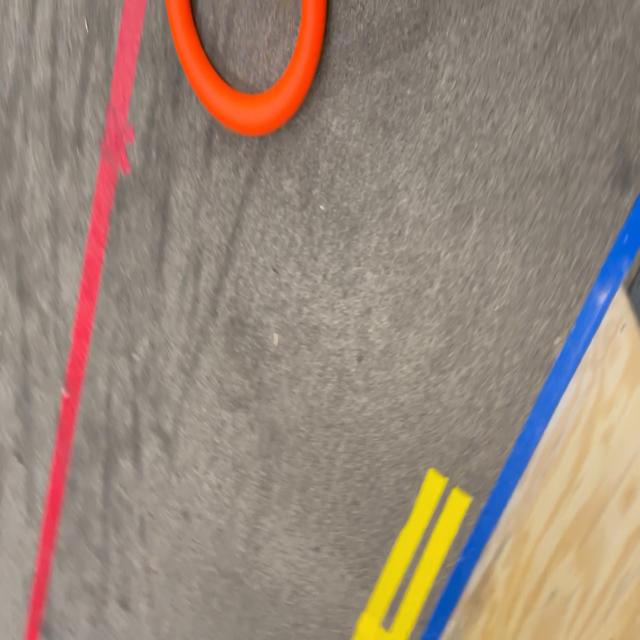note: (166, 0, 329, 136)
